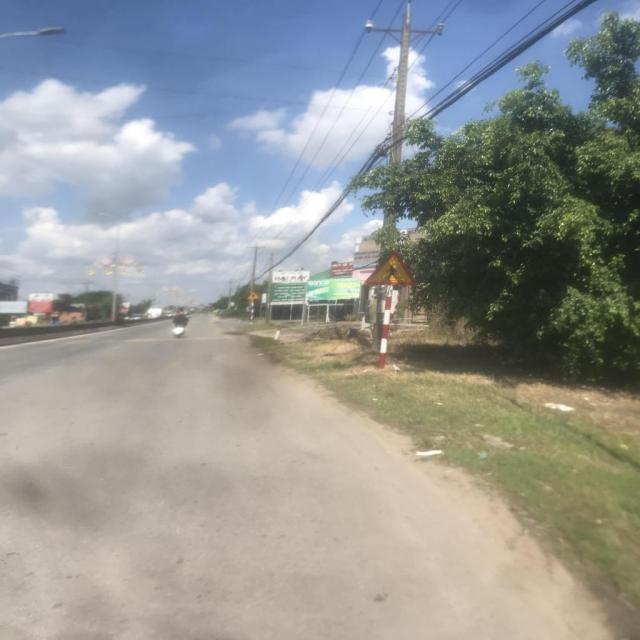chu_y_nguoi_di_bo_cat_ngang: (362, 250, 418, 286)
giao_nhau_voi_duong_khong_uu_tien: (246, 290, 260, 300)
